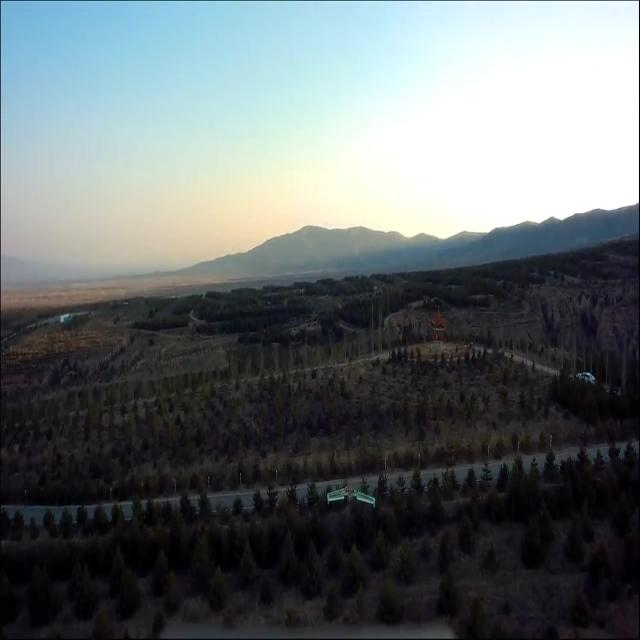iha: (326, 483, 376, 512)
